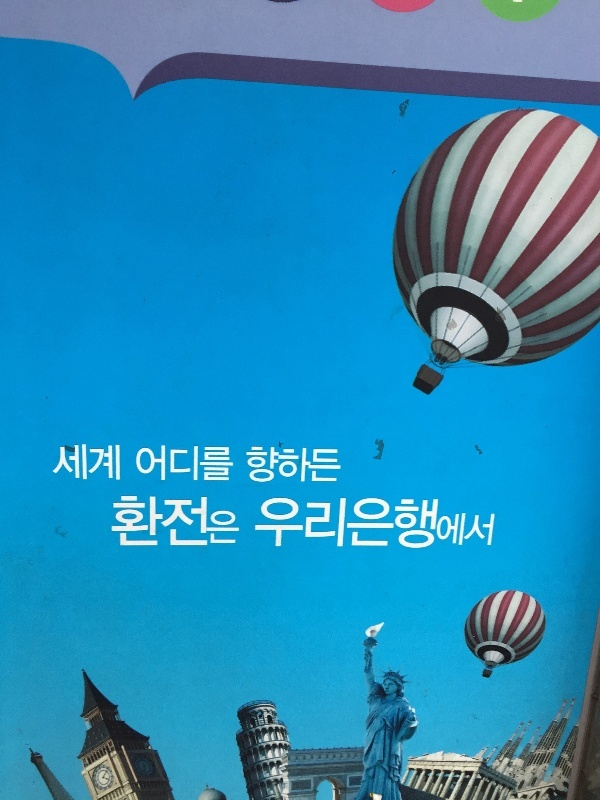text: (481, 491, 497, 552), (257, 491, 272, 552), (273, 491, 288, 552), (289, 491, 304, 552), (305, 491, 320, 552), (321, 491, 336, 552), (337, 491, 352, 552), (353, 491, 368, 552), (369, 491, 384, 552), (385, 491, 400, 552), (401, 491, 416, 552), (417, 491, 432, 552), (433, 491, 448, 552), (449, 491, 464, 552), (465, 491, 480, 552), (113, 493, 128, 550), (129, 493, 144, 550), (145, 493, 160, 550), (161, 493, 176, 550), (177, 493, 192, 550), (193, 493, 208, 550), (209, 493, 224, 550), (225, 493, 240, 550), (257, 443, 272, 487), (273, 443, 288, 487), (289, 443, 304, 487), (305, 443, 320, 487), (321, 443, 336, 487), (65, 442, 80, 483), (81, 442, 96, 483), (97, 442, 112, 483), (145, 444, 160, 485), (161, 444, 176, 485), (177, 444, 192, 485), (193, 444, 208, 485), (209, 444, 224, 485), (52, 442, 64, 483), (245, 443, 256, 487), (225, 444, 235, 485), (135, 444, 144, 485), (113, 442, 121, 483), (337, 443, 343, 487), (111, 493, 112, 550), (241, 493, 242, 550)
